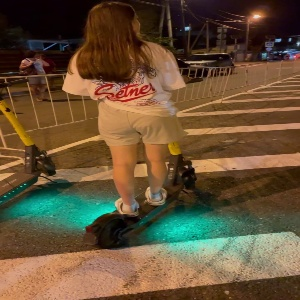human on a scooter: (61, 1, 204, 249)
